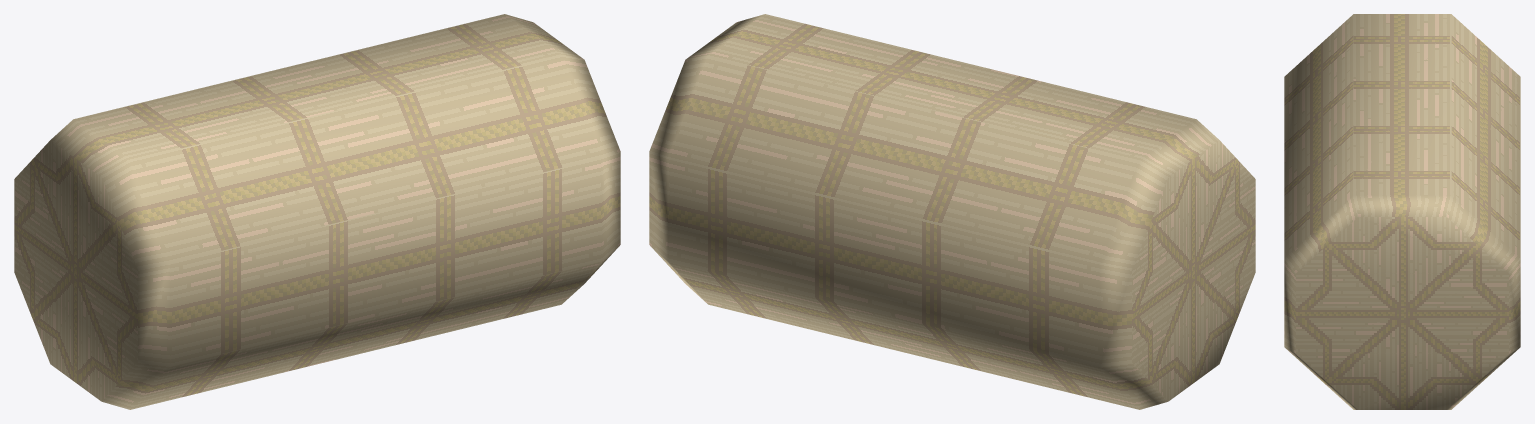
The model's file is 008f_Bale_of_Rice.glb.
3 views of the same model, side by side, from view 1: azimuth 30°, elevation 25°; view 2: azimuth 150°, elevation 25°; view 3: azimuth 270°, elevation 25° (orthographic). The views are drawn at different scales.
Visible parts, largest first — view 1: part_0; view 2: part_0; view 3: part_0.
Boxes of the visible parts, left/top/right/bottom form: part_0: left=14, top=14, right=620, bottom=409; part_0: left=649, top=14, right=1255, bottom=409; part_0: left=1284, top=14, right=1520, bottom=409.
Size of the model in its own units: 0.75 by 0.3696 by 0.3696.
1 material, 1 textured.
